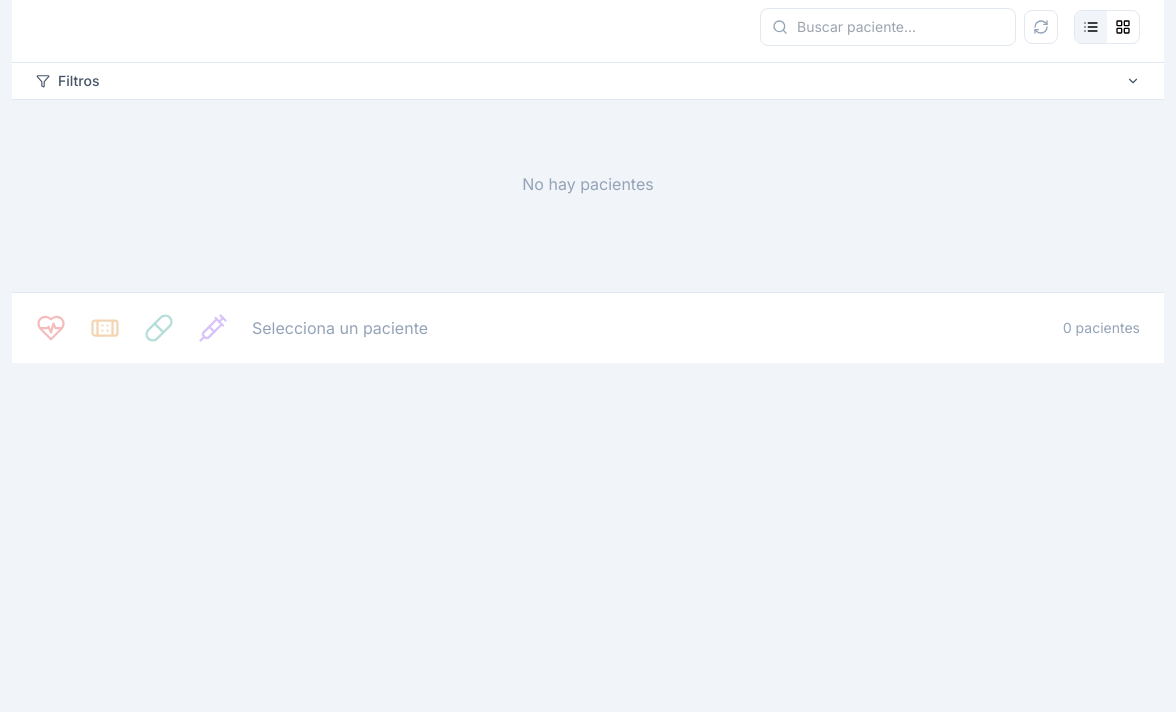
Empty locations feature › respects zone filter for empty locations
Expected: the text "No hay pacientes" is shown, [522,174,654,194]
Click the button "Filtros" at (79, 80), box [12,63,1164,99]
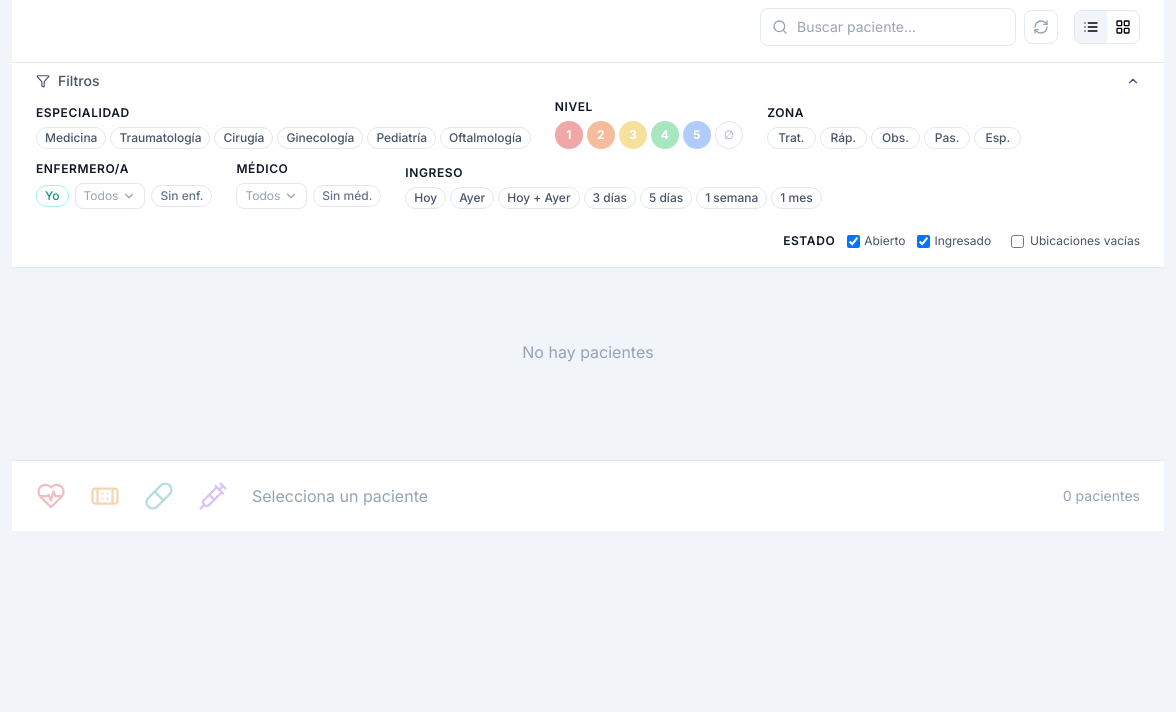
Filter to Rápida zone only
Click the button "Ráp." at (843, 138), box [820,127,867,149]
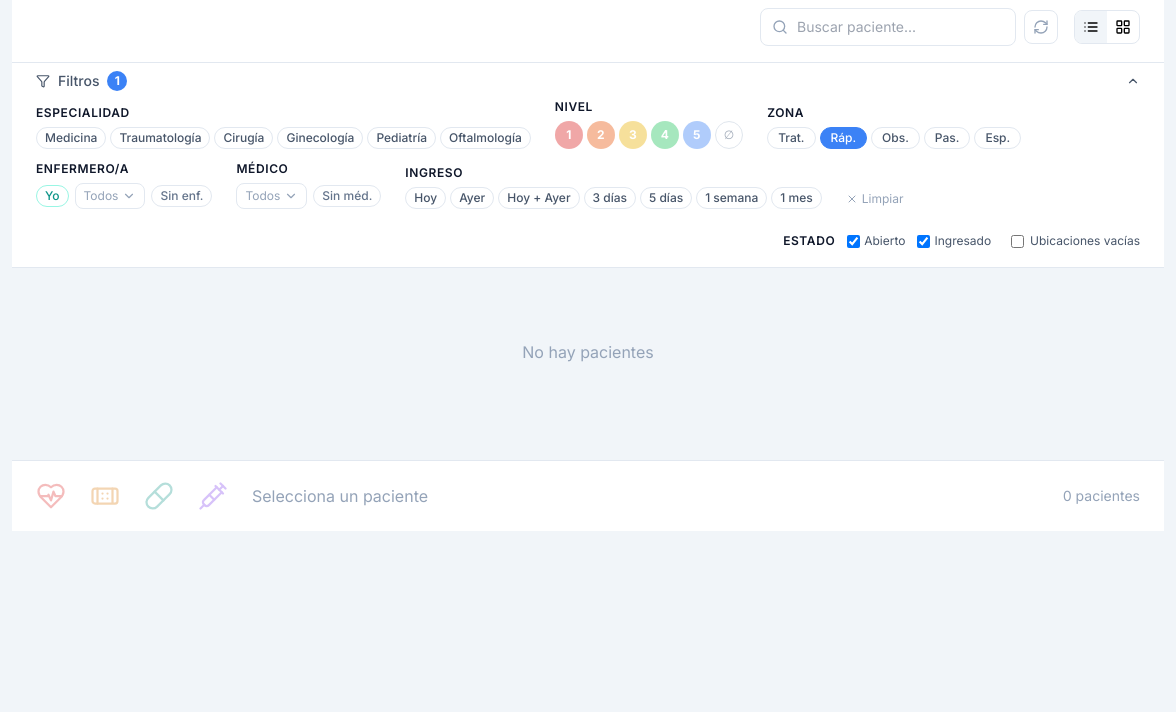
Click the checkbox with test id "show-empty-locations" at (1018, 241), box [1011,234,1024,248]
(page scrolled)
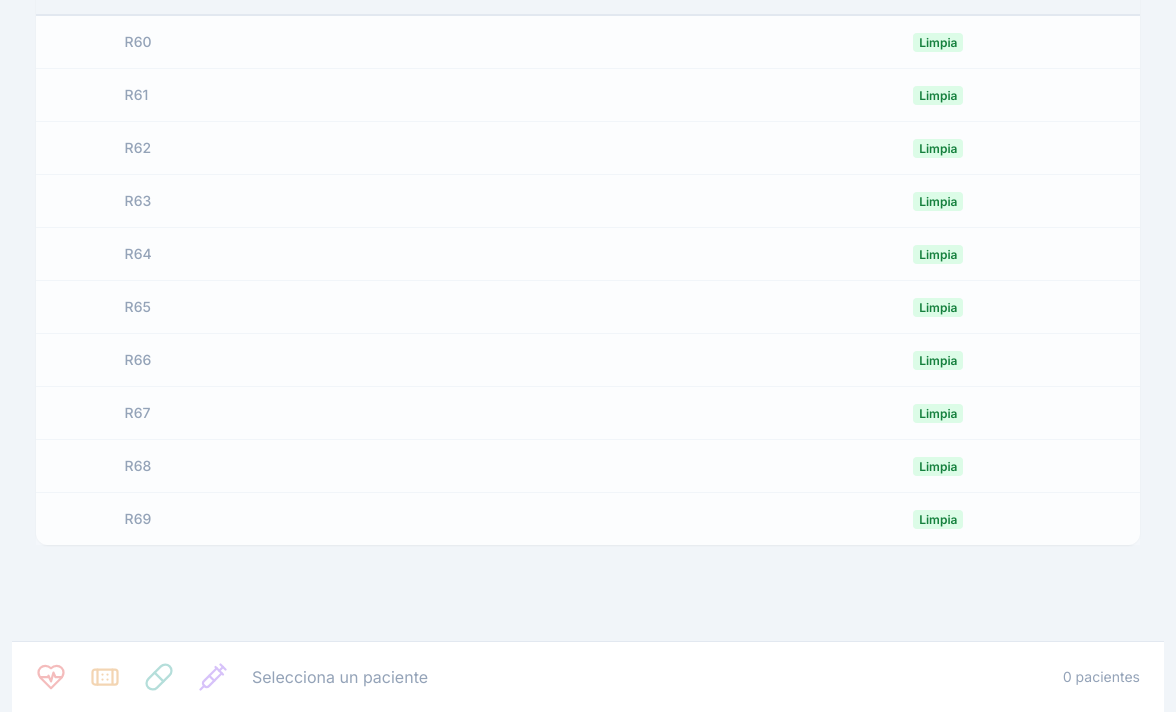
Result: the number of rows with test id "empty-location-row" is 10
Result: the cell "R60" is shown at [117,15,181,68]
Result: the cell "R61" is shown at [117,68,181,122]
